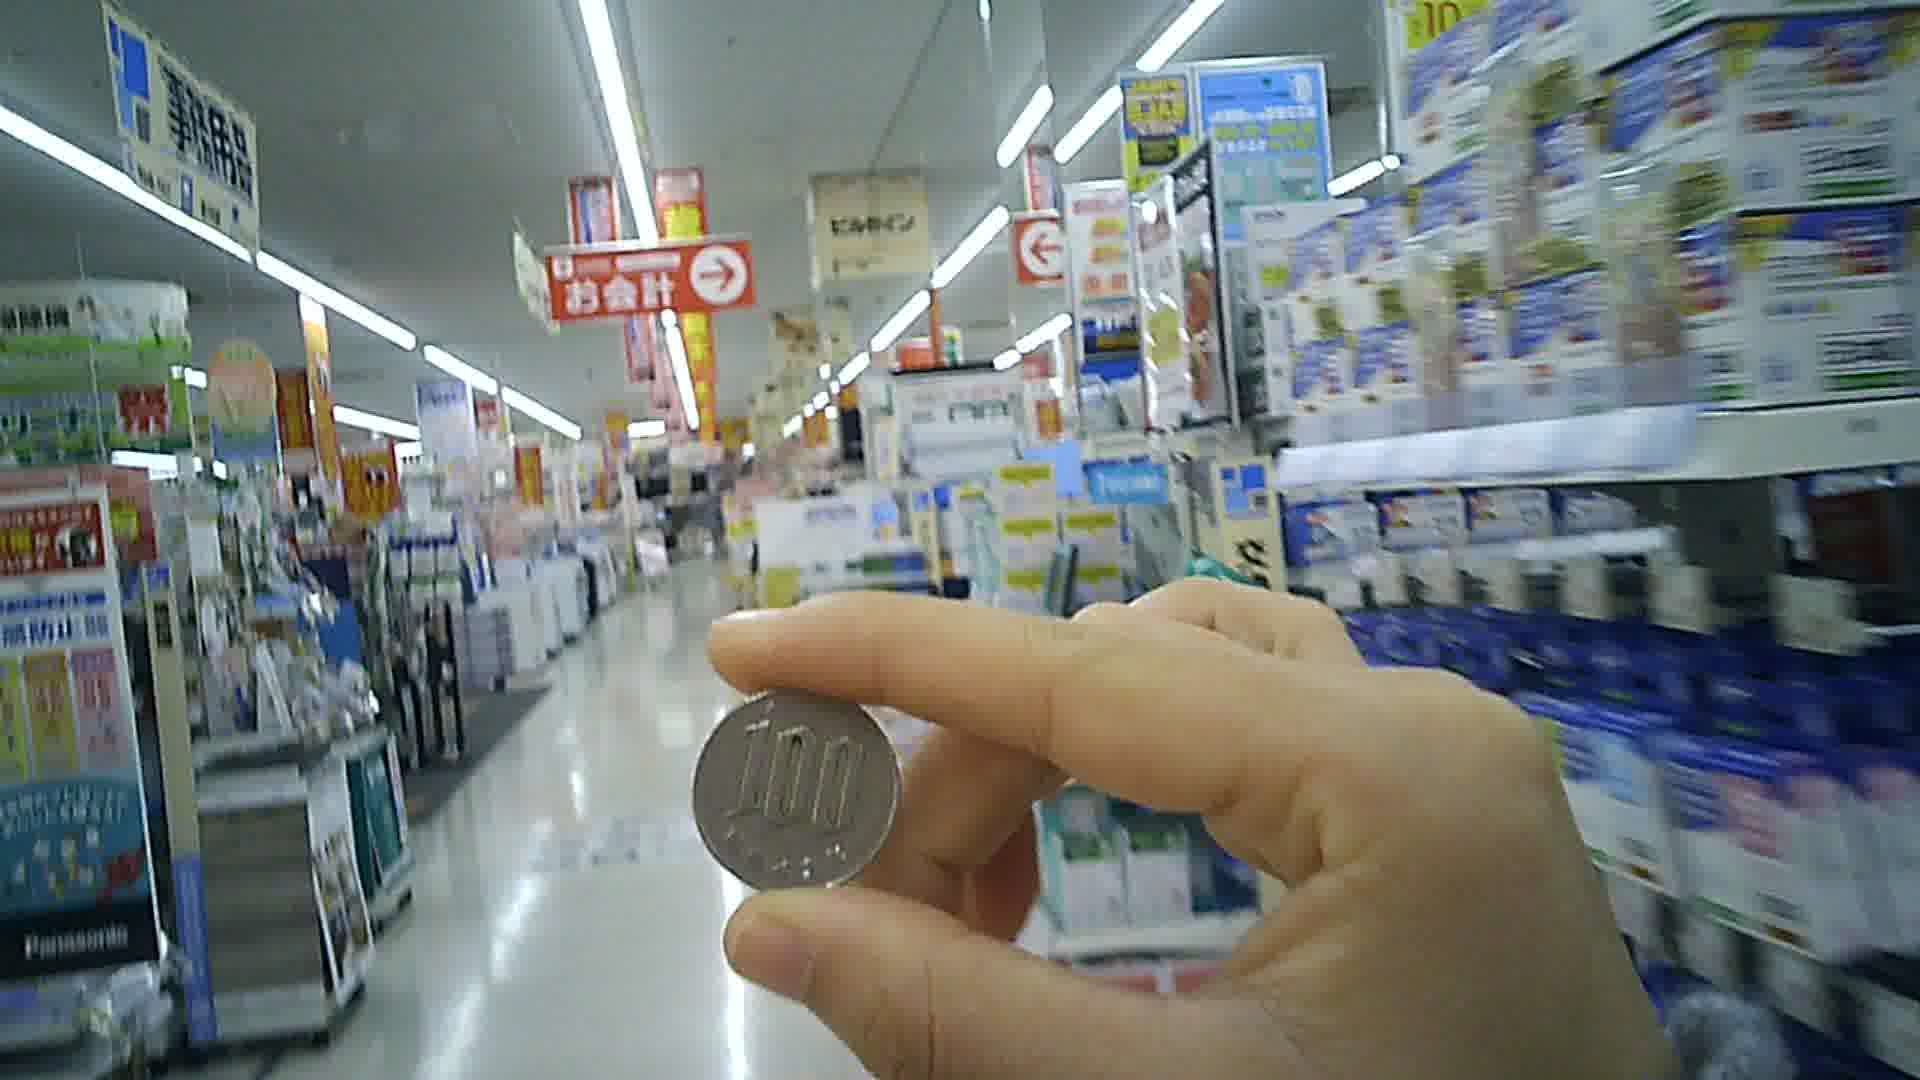100 Yen: (682, 684, 918, 909)
